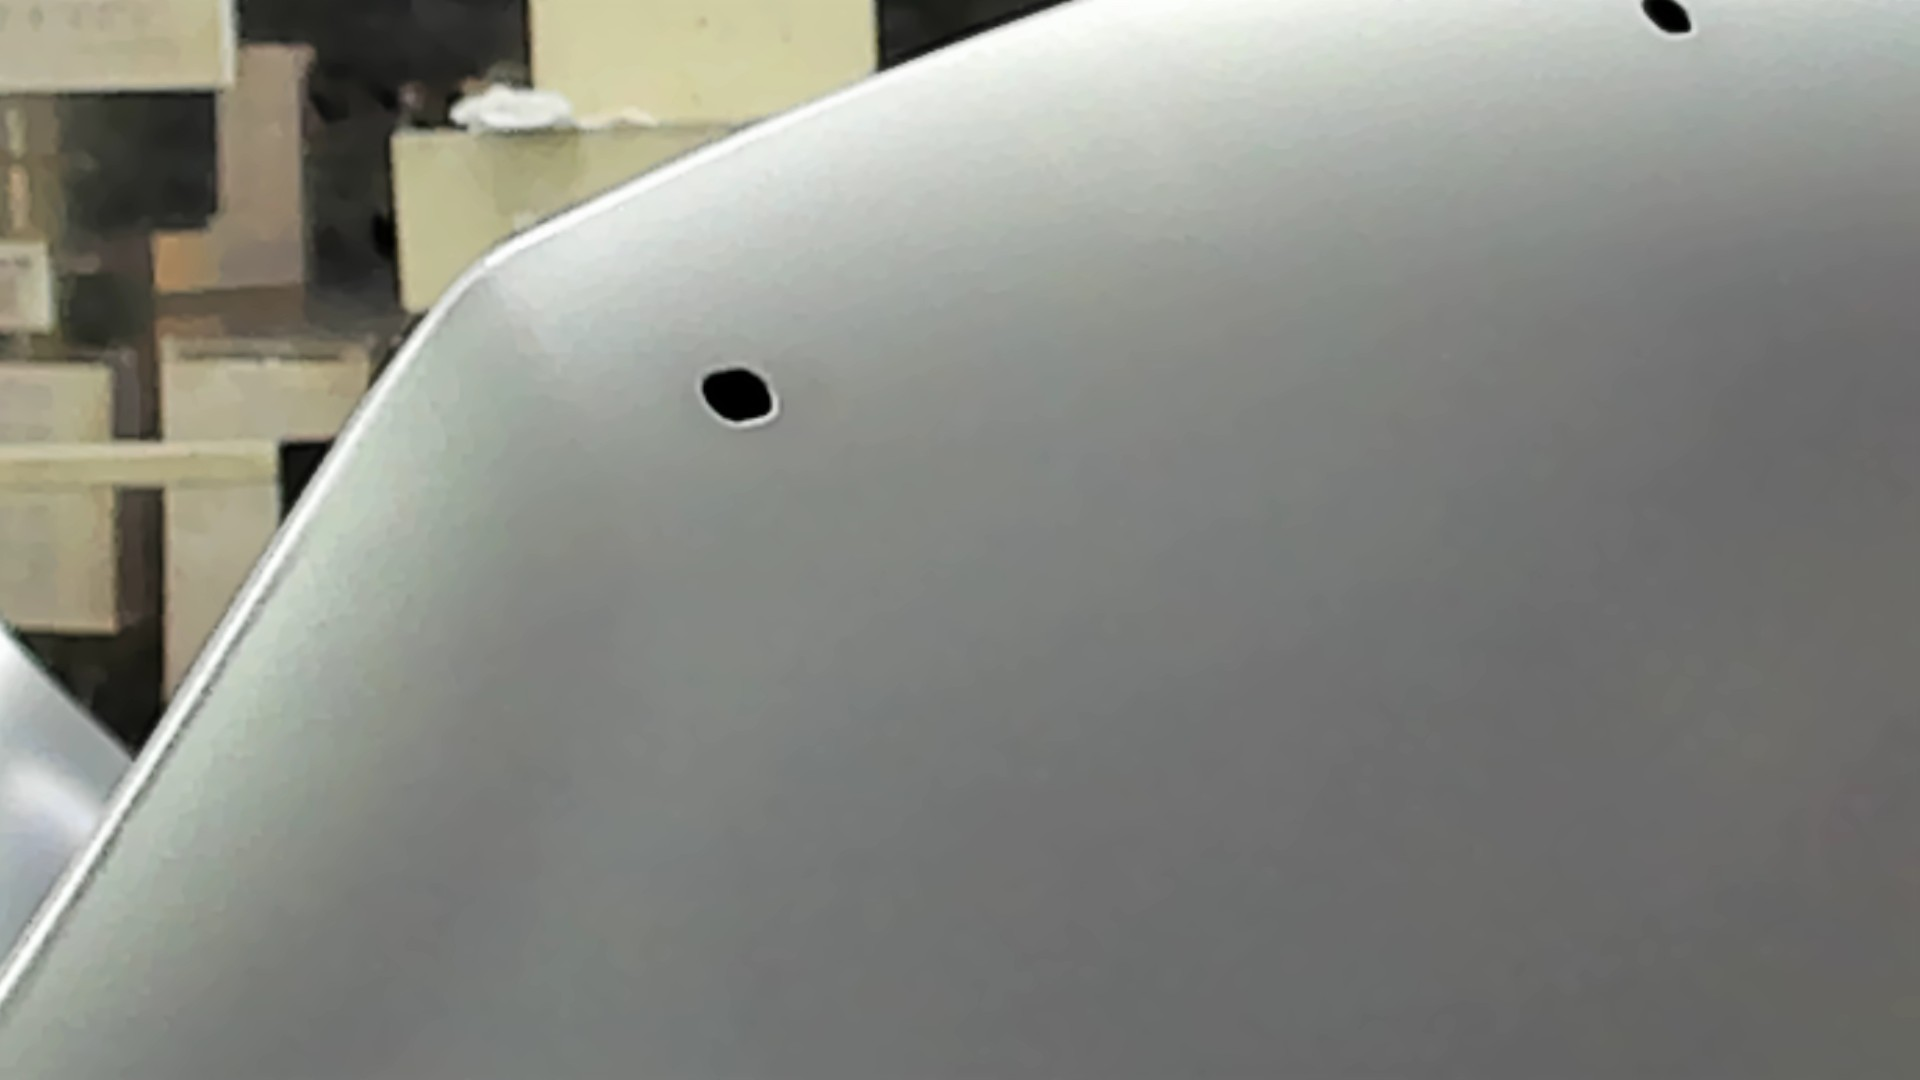amorfo: (688, 355, 793, 433), (1629, 1, 1701, 41)
capo: (889, 112, 1920, 1080)
